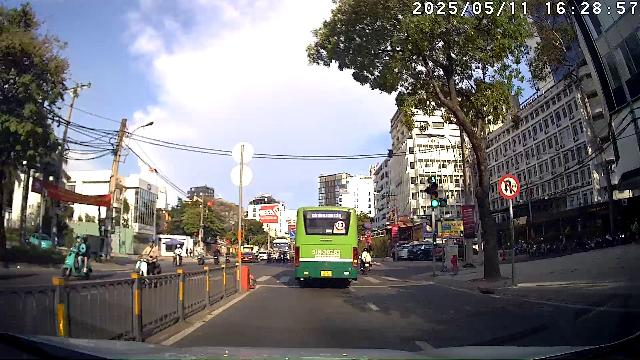124b-cam-oto-quay-dau-xe: (498, 173, 520, 199)
